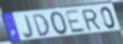0: (101, 6, 116, 30)
D: (32, 13, 52, 38)
E: (64, 10, 87, 35)
J: (22, 14, 35, 40)
O: (50, 10, 69, 36)
R: (81, 8, 103, 32)
